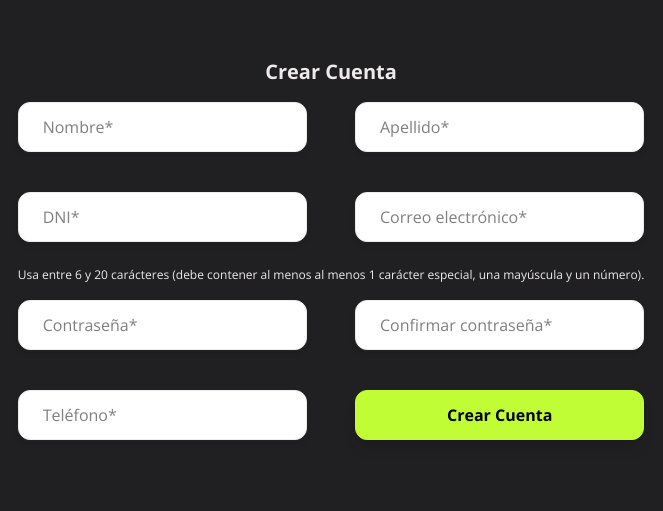
Test: SignupPage › muestra error si las contraseñas no coinciden
Type "Abcdef1!" into the password field with test id "password-input". click: [162, 325]
box: [18,300,307,350]
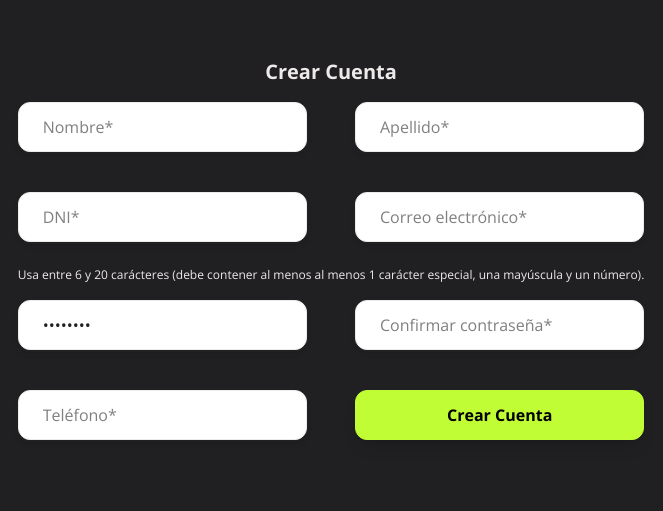
Type "Diferente1!" into the password field with test id "confirm-password-input". click: [500, 325]
box: [355,300,644,350]
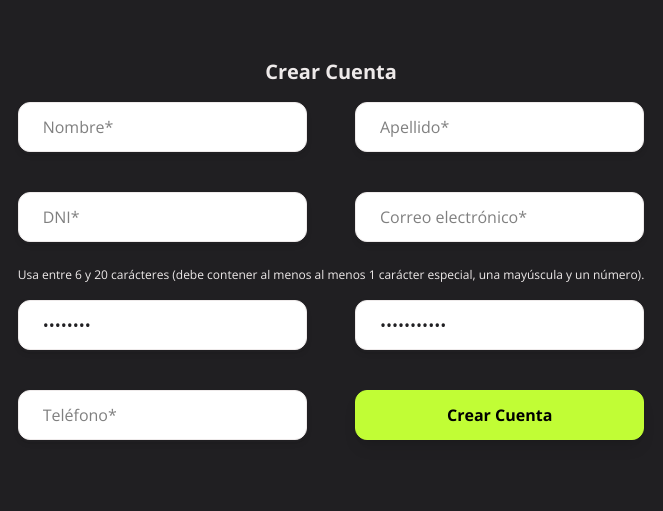
Click the button with test id "submit-button". click: [500, 415]
box: [355,390,644,440]
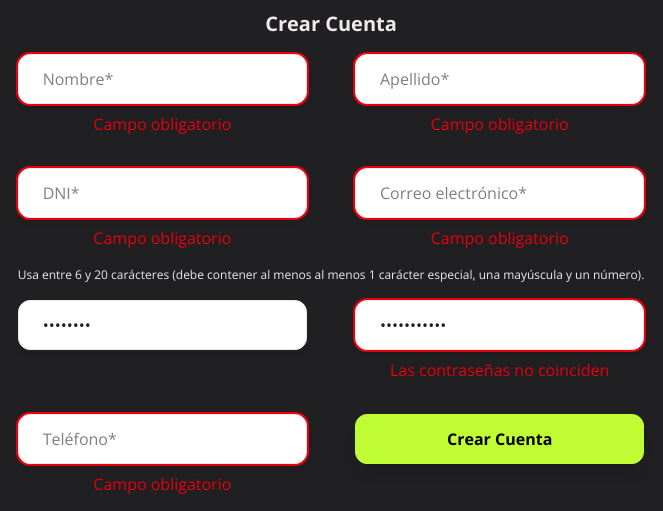
Result: the text "Las contraseñas no coinciden" is shown at [390,359,609,381]
